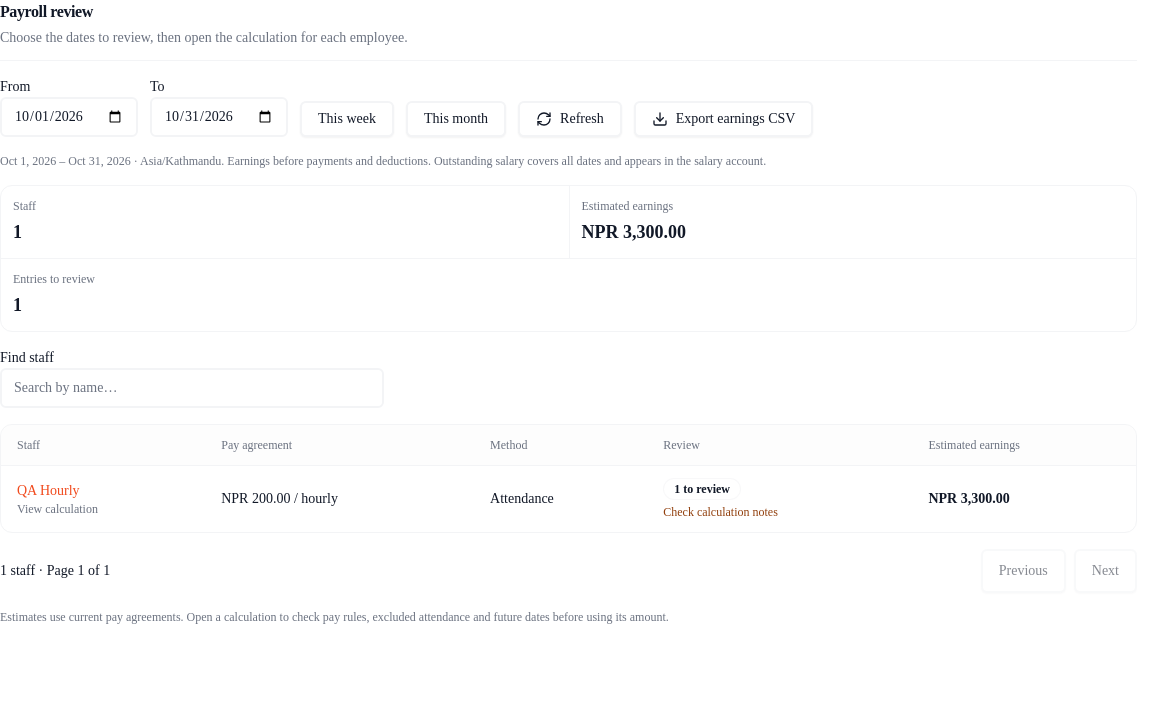
Test case: PayrollPeriodReview › opens calculation notes and links to the employee salary account
Click the button "QA Hourly": (48,491) [17,481,80,501]
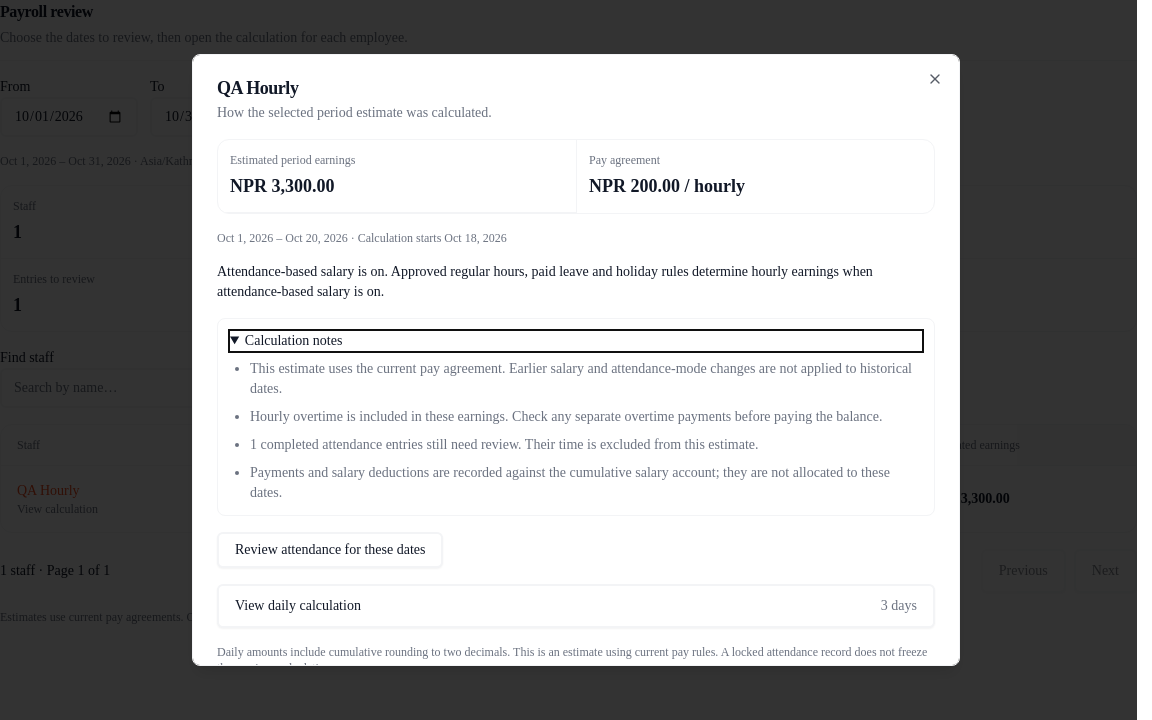
Check: the dialog shows "Hourly overtime is included in these earnings", box [250,409,882,424]
Click the button "View daily calculation 3 days": (298,606) [217,584,935,628]
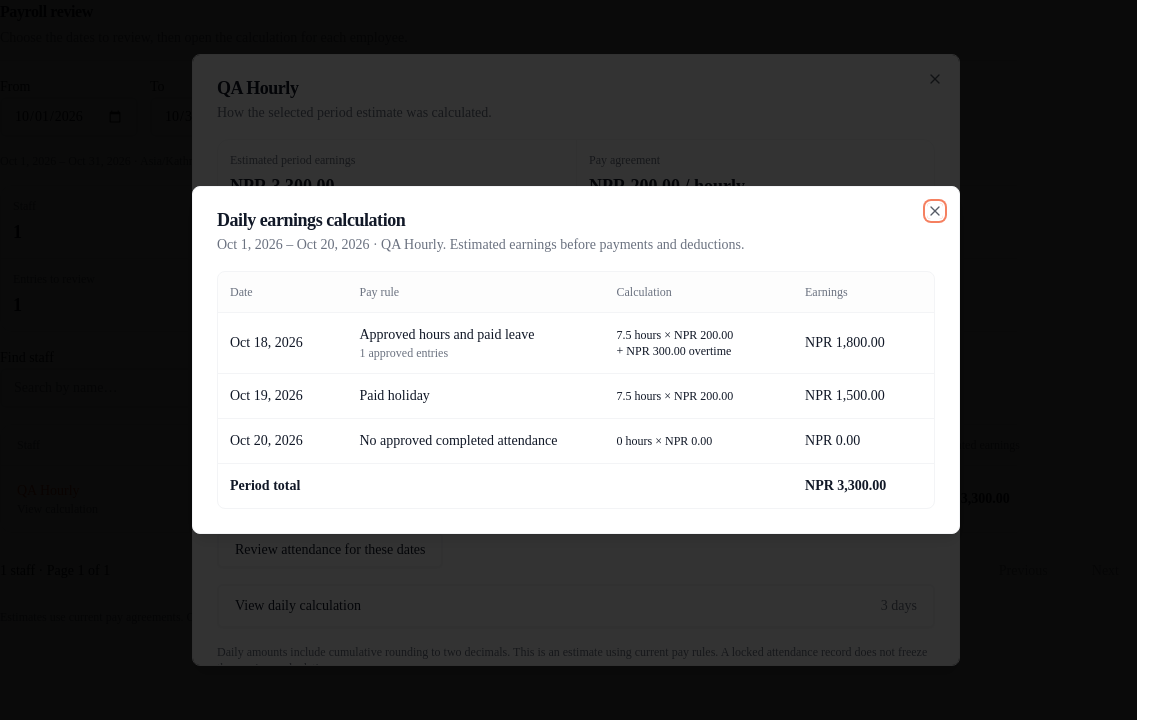
Check: the dialog "Daily earnings calculation" shows "No approved completed attendance", box [360,433,557,448]
